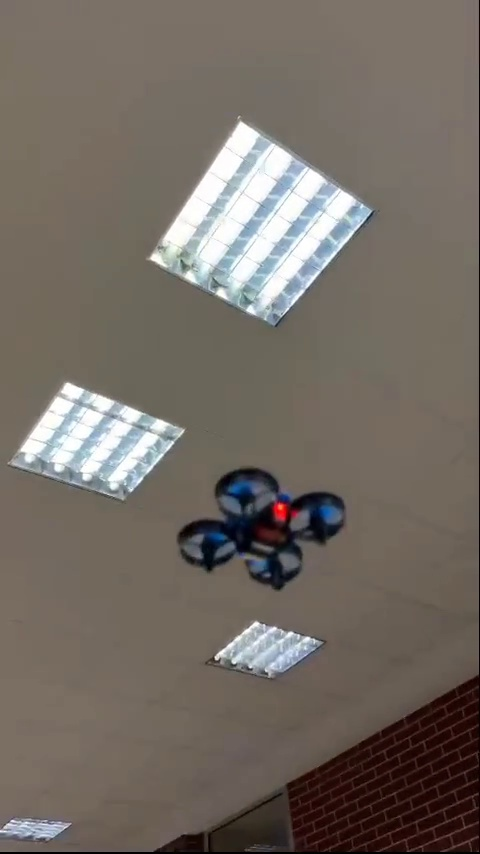drone: (182, 466, 340, 590)
